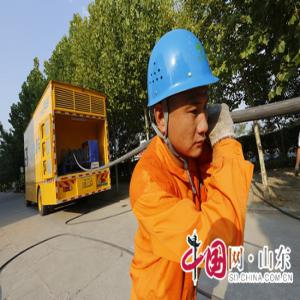blue: (144, 30, 219, 162)
